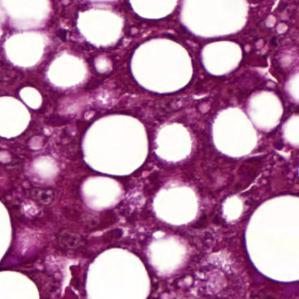steatosis: (246, 195, 299, 282), (82, 113, 149, 174), (131, 37, 193, 96), (201, 40, 243, 78), (0, 269, 40, 299), (131, 0, 177, 19), (0, 198, 11, 267)
